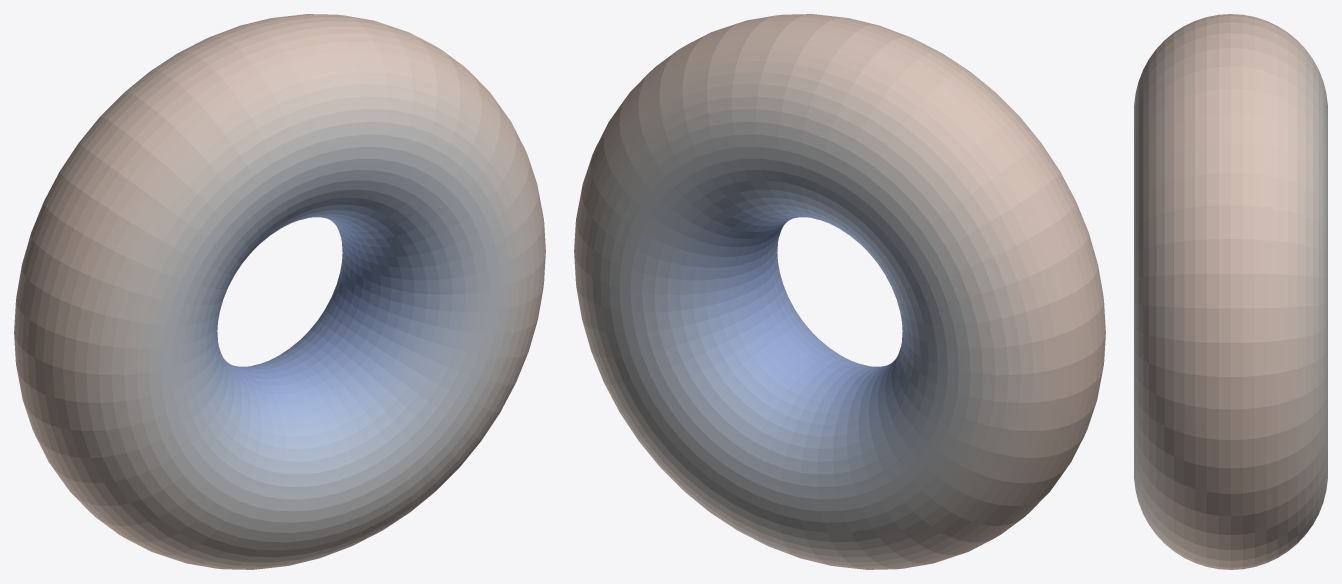
The picture shows the model from 3 angles, left to right: view 1: azimuth 30°, elevation 25°; view 2: azimuth 150°, elevation 25°; view 3: azimuth 270°, elevation 25°; orthographic projection. The views are drawn at different scales.
Parts seen in each view (by area): view 1: world; view 2: world; view 3: world.
Boxes of the visible parts, left/top/right/bottom form: world: left=14, top=14, right=545, bottom=569; world: left=574, top=14, right=1105, bottom=569; world: left=1134, top=14, right=1327, bottom=569.
Bounding box in the file's own units: 22.53 × 22.49 × 7.85.
